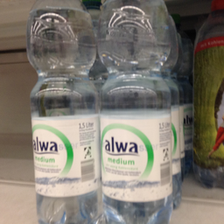water: (95, 1, 174, 224), (27, 1, 100, 224)
